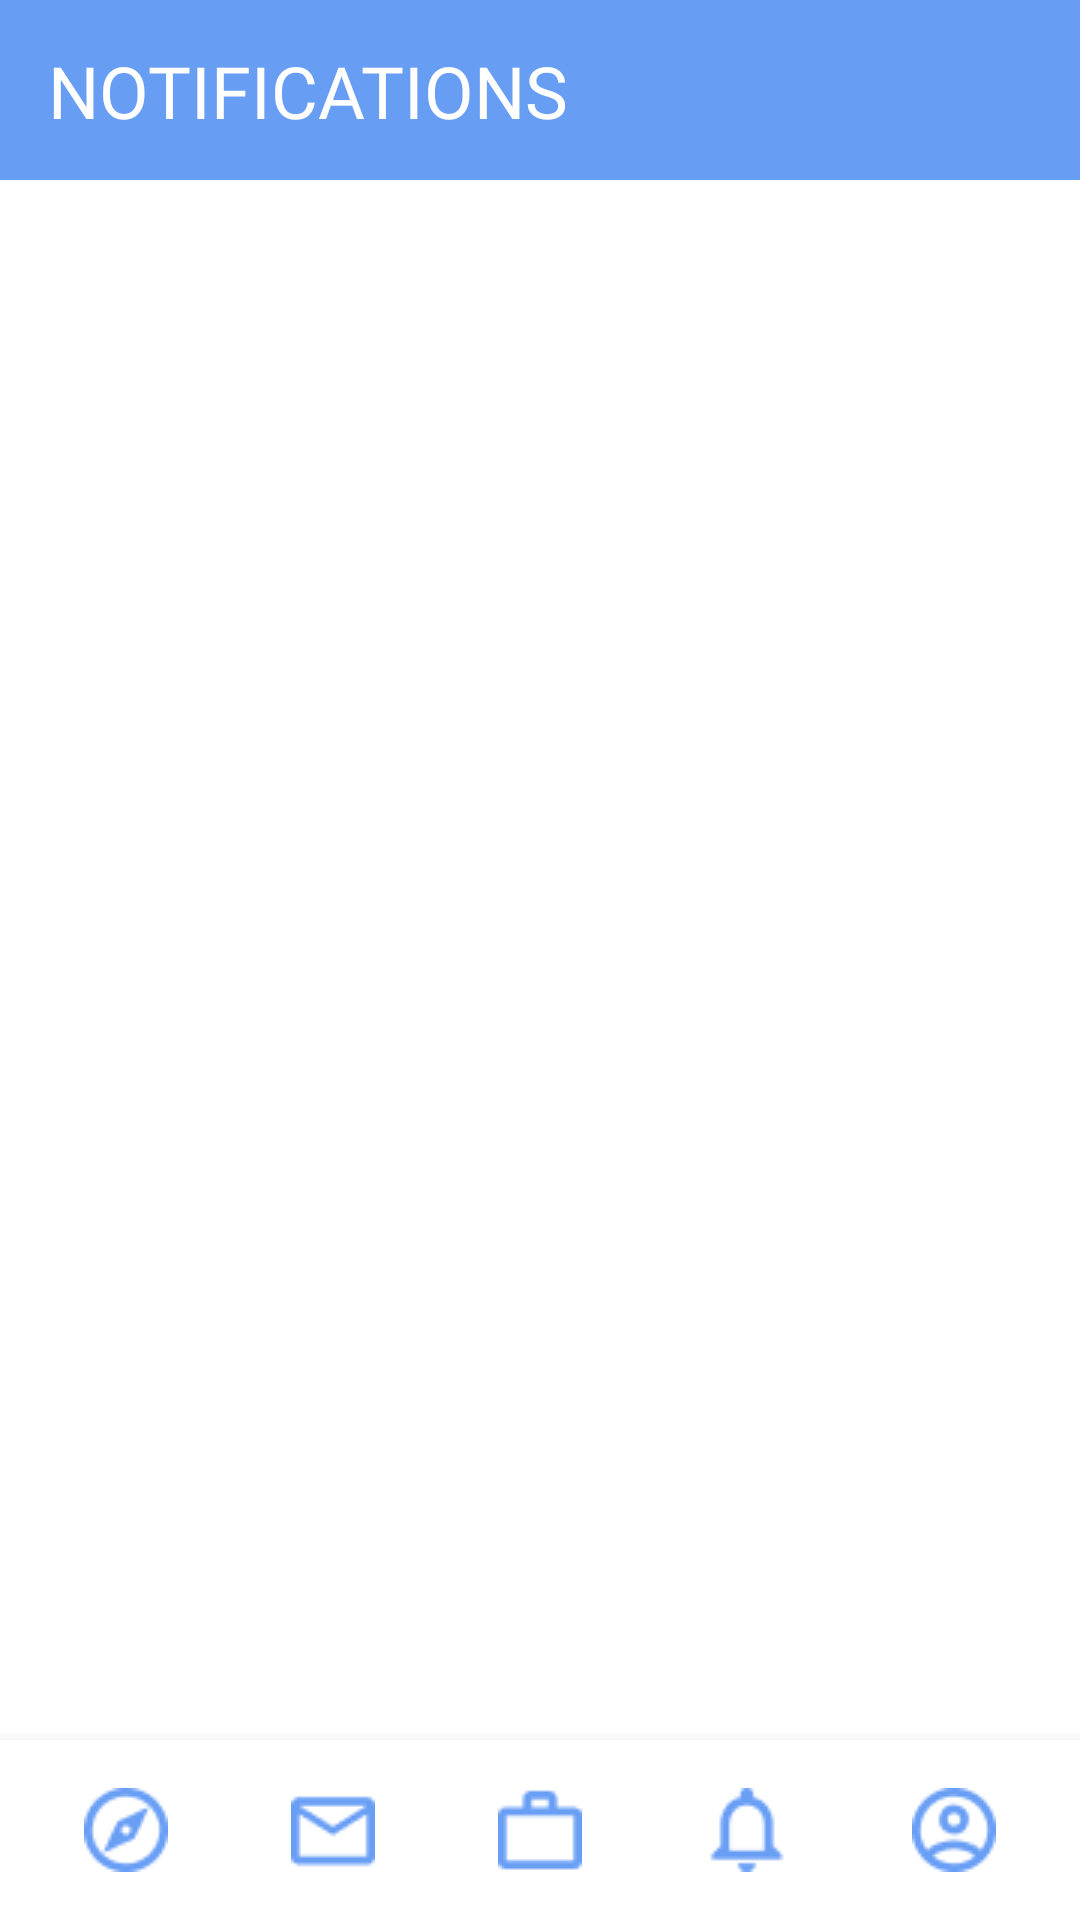

Screen size 1080*1920. Icon name, then its box in pixels as box(x1, y1, x2, y2):
account circle: box(912, 1788, 996, 1872)
explore: box(84, 1788, 168, 1872)
mail: box(291, 1796, 375, 1867)
notifications none: box(710, 1788, 784, 1872)
work: box(498, 1790, 582, 1870)
